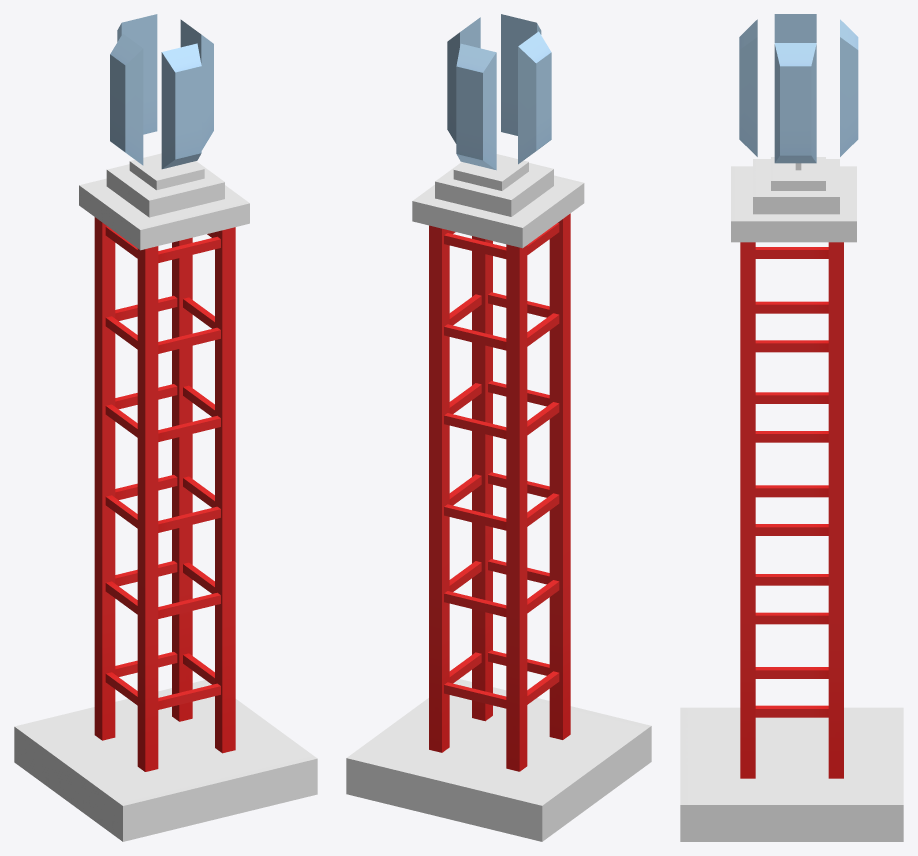
File: Tower.FBX
3 views of the same model, side by side, from view 1: azimuth 30°, elevation 25°; view 2: azimuth 150°, elevation 25°; view 3: azimuth 270°, elevation 25° (orthographic). The views are drawn at different scales.
Parts seen in each view (by area): view 1: Box029, Box032; view 2: Box029, Box032; view 3: Box029, Box032.
Boxes of the visible parts, x1=… form: Box029: x1=14, y1=153, x2=317, y2=841; Box032: x1=110, y1=14, x2=213, y2=169; Box029: x1=346, y1=154, x2=651, y2=841; Box032: x1=447, y1=14, x2=551, y2=170; Box029: x1=680, y1=157, x2=903, y2=841; Box032: x1=739, y1=14, x2=858, y2=163.
Bounding box in the file's own units: 11.1 × 40.53 × 10.74.
